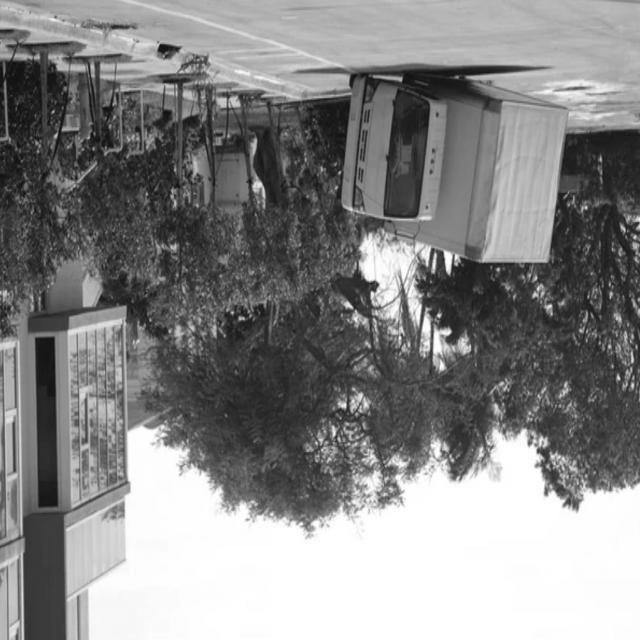severe: (334, 65, 570, 272)
